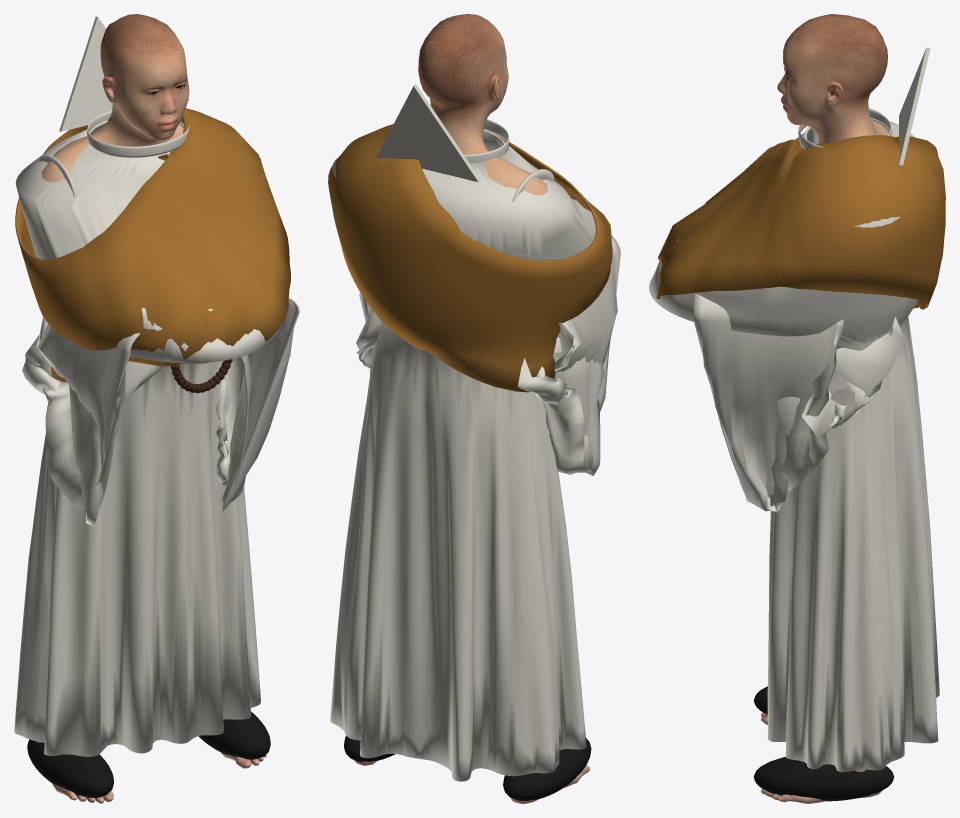
The model's file is sou_kosou.glb.
3 views of the same model, side by side, from view 1: azimuth 30°, elevation 25°; view 2: azimuth 150°, elevation 25°; view 3: azimuth 270°, elevation 25° (orthographic).
Parts seen in each view (by area): view 1: koromo, kesa, sode.R, Human, sode.L, kutsu.R, sougoueri, kutsu.L, eri; view 2: koromo, kesa, sode.R, Human, sougoueri, kutsu.R, sode.L, eri; view 3: koromo, kesa, sode.L, Human, kutsu.L, sougoueri.
Boxes of the visible parts, x1,y1,x2,y2 form: koromo: (14, 120, 285, 756); kesa: (15, 108, 290, 382); sode.R: (22, 155, 163, 526); Human: (36, 14, 269, 803); sode.L: (216, 297, 299, 511); kutsu.R: (27, 739, 113, 797); sougoueri: (59, 16, 112, 131); kutsu.L: (199, 711, 270, 759); eri: (87, 110, 189, 157); koromo: (330, 129, 595, 781); kesa: (328, 124, 612, 392); sode.R: (512, 169, 620, 475); Human: (354, 14, 589, 803); sougoueri: (376, 83, 480, 182); kutsu.R: (503, 738, 591, 800); sode.L: (356, 292, 382, 374); eri: (464, 119, 509, 163); koromo: (649, 117, 939, 772); kesa: (656, 135, 945, 309); sode.L: (694, 293, 905, 512); Human: (761, 14, 888, 803); kutsu.L: (753, 757, 894, 801); sougoueri: (899, 47, 930, 165).
Bounding box in the file's own units: 0.5159 × 1.55 × 0.5616.
8 materials, 4 textured.
